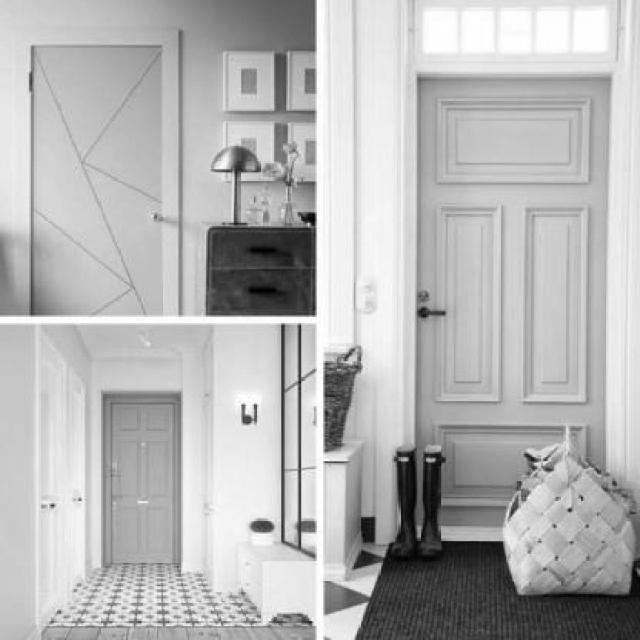door_handle: (414, 305, 457, 322)
